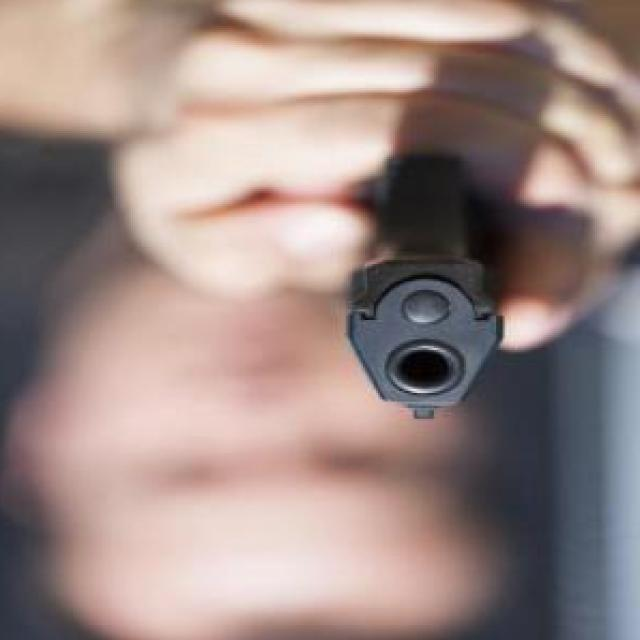pistol: (336, 156, 526, 421)
